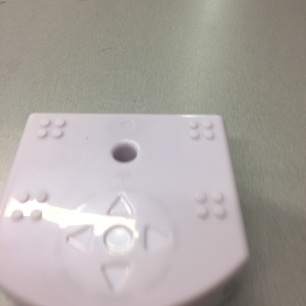thymio: (1, 108, 250, 306)
